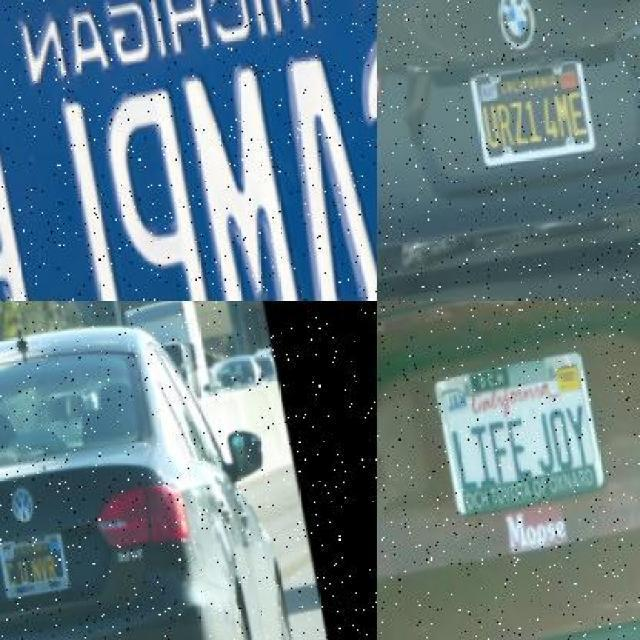LicensePlate: (0, 0, 377, 300), (428, 339, 621, 525), (465, 36, 607, 176), (1, 522, 81, 601)
